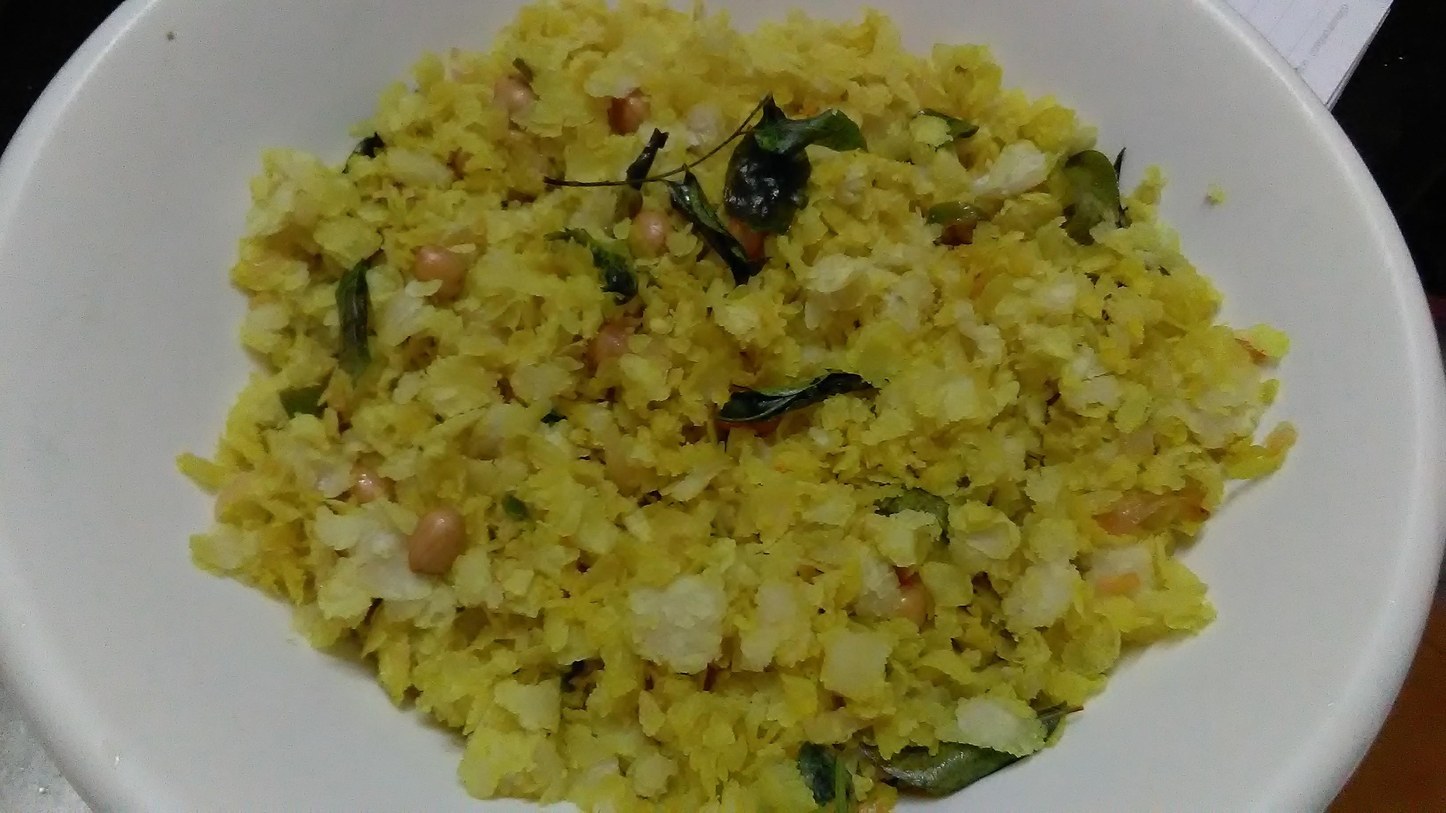Poha: (176, 0, 1294, 813)
